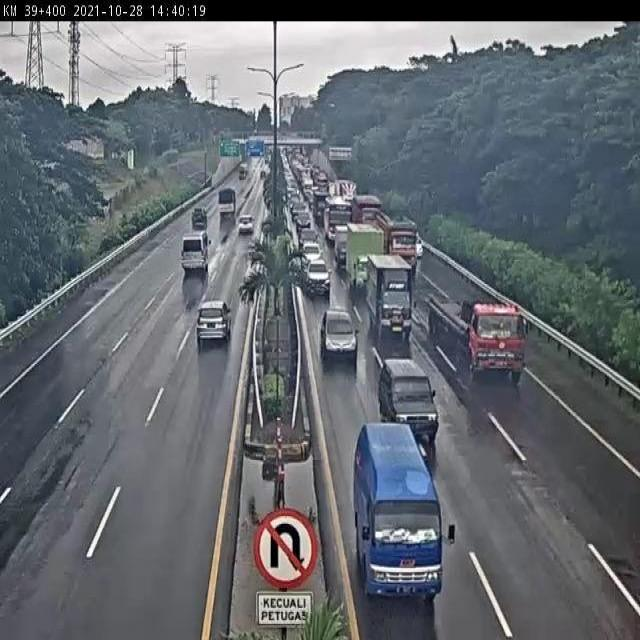bus-s-: (352, 423, 449, 600)
car: (376, 356, 441, 447), (320, 306, 359, 366), (196, 299, 231, 344), (302, 259, 333, 296), (299, 239, 324, 268)
small bus: (178, 232, 210, 273)
truck-m-: (371, 254, 416, 338), (346, 221, 385, 296)
truck-s-: (335, 224, 350, 267)
truck-xl-: (428, 287, 525, 377)
